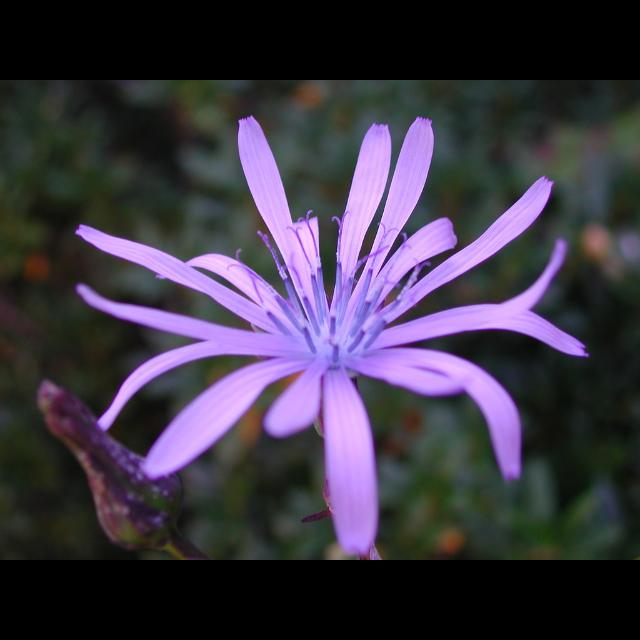Flower: (49, 104, 580, 550)
